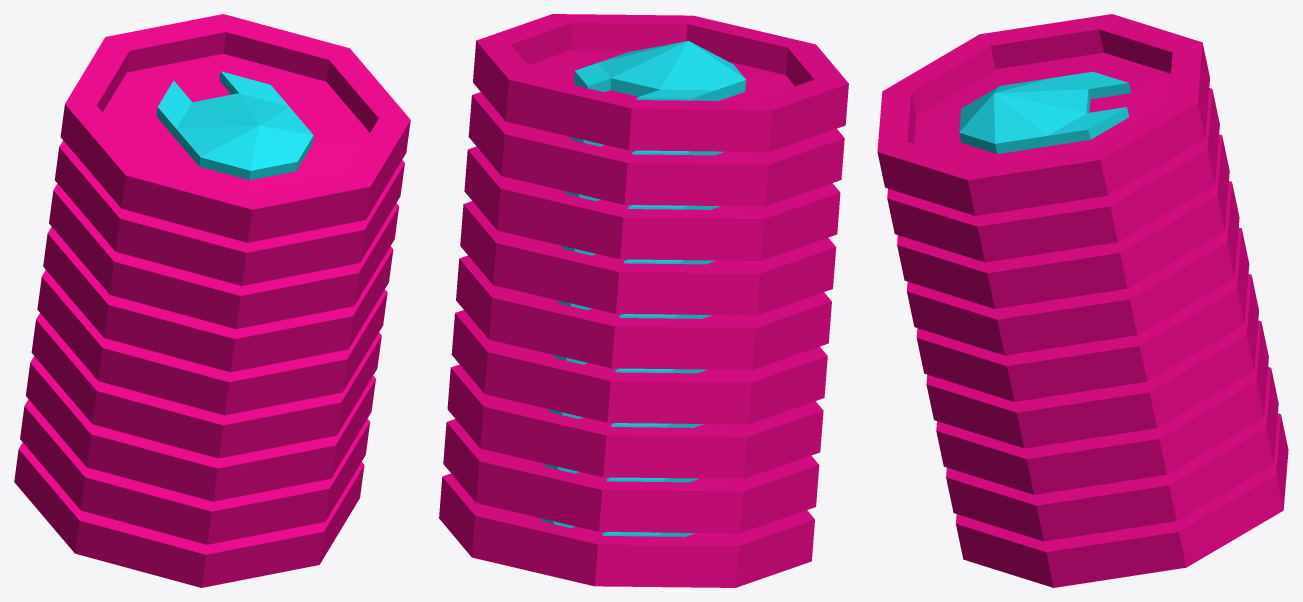
Rendered from meelk_tokentower1.glb.
3 views of the same model, side by side, from view 1: azimuth 30°, elevation 25°; view 2: azimuth 150°, elevation 25°; view 3: azimuth 270°, elevation 25° (orthographic). The views are drawn at different scales.
Visible parts, largest first — view 1: Cylinder.020; view 2: Cylinder.020; view 3: Cylinder.020.
Boxes of the visible parts, x1,y1,x2,y2 form: Cylinder.020: [14, 14, 410, 587]; Cylinder.020: [439, 14, 848, 587]; Cylinder.020: [877, 14, 1288, 587].
Size of the model in its own units: 0.3344 by 0.5084 by 0.4032.
